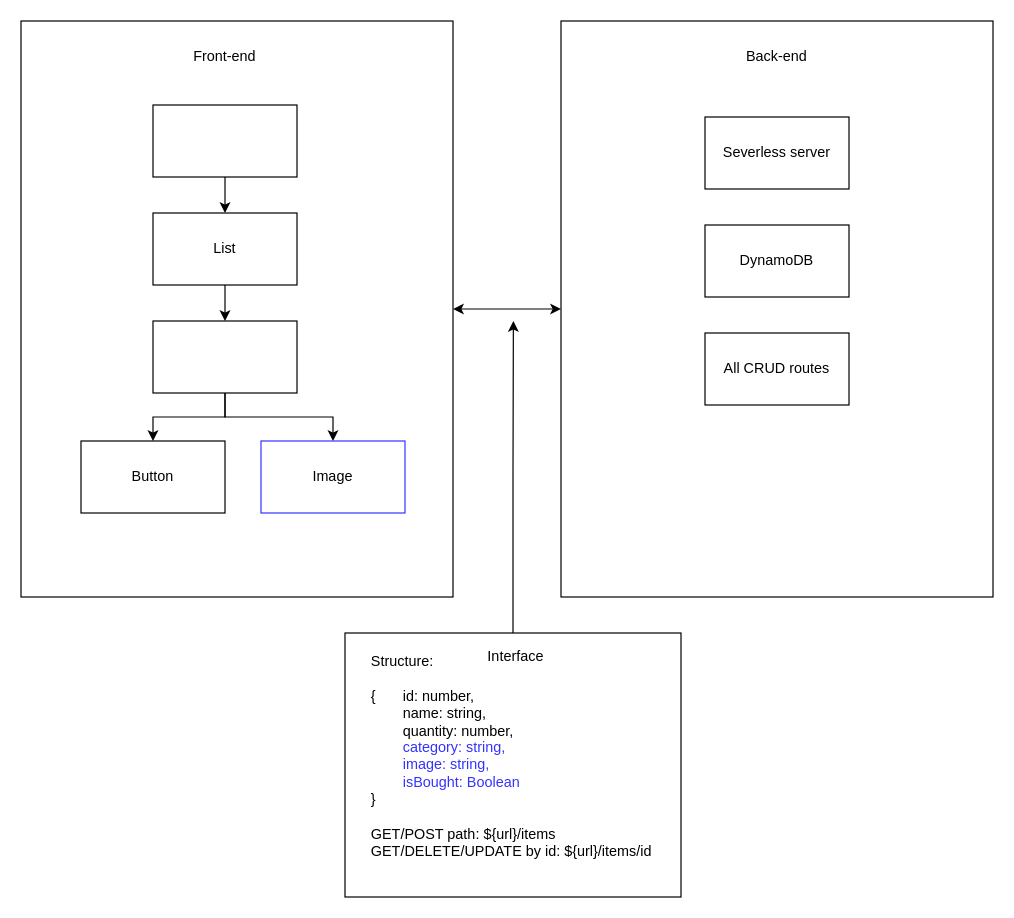
Some shapes in this 1014 by 918 pixel diagram are drawn without their labels. The shapes that lost their labels are listed below. From the top down, each one's centre as x and y in pixels, then its label:
At [224,140]: "App".
At [224,356]: "List item".
